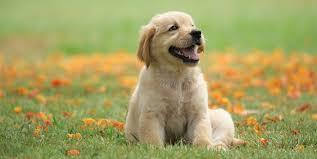dog: (121, 10, 245, 149)
